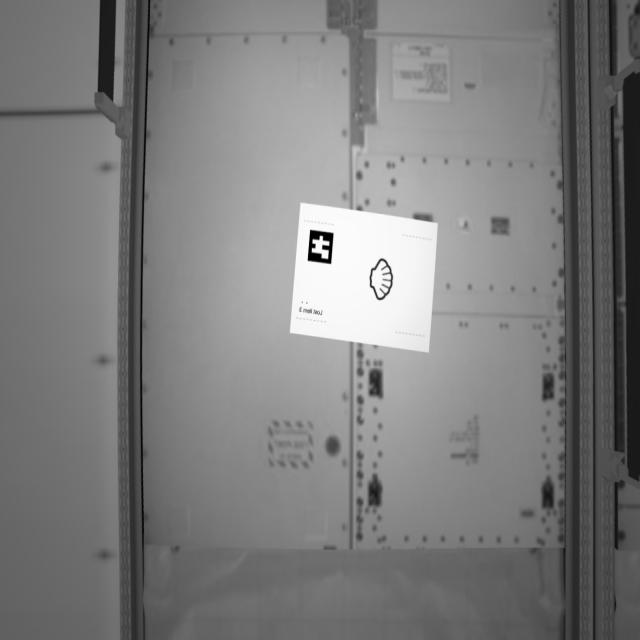shell: (363, 249, 398, 309)
